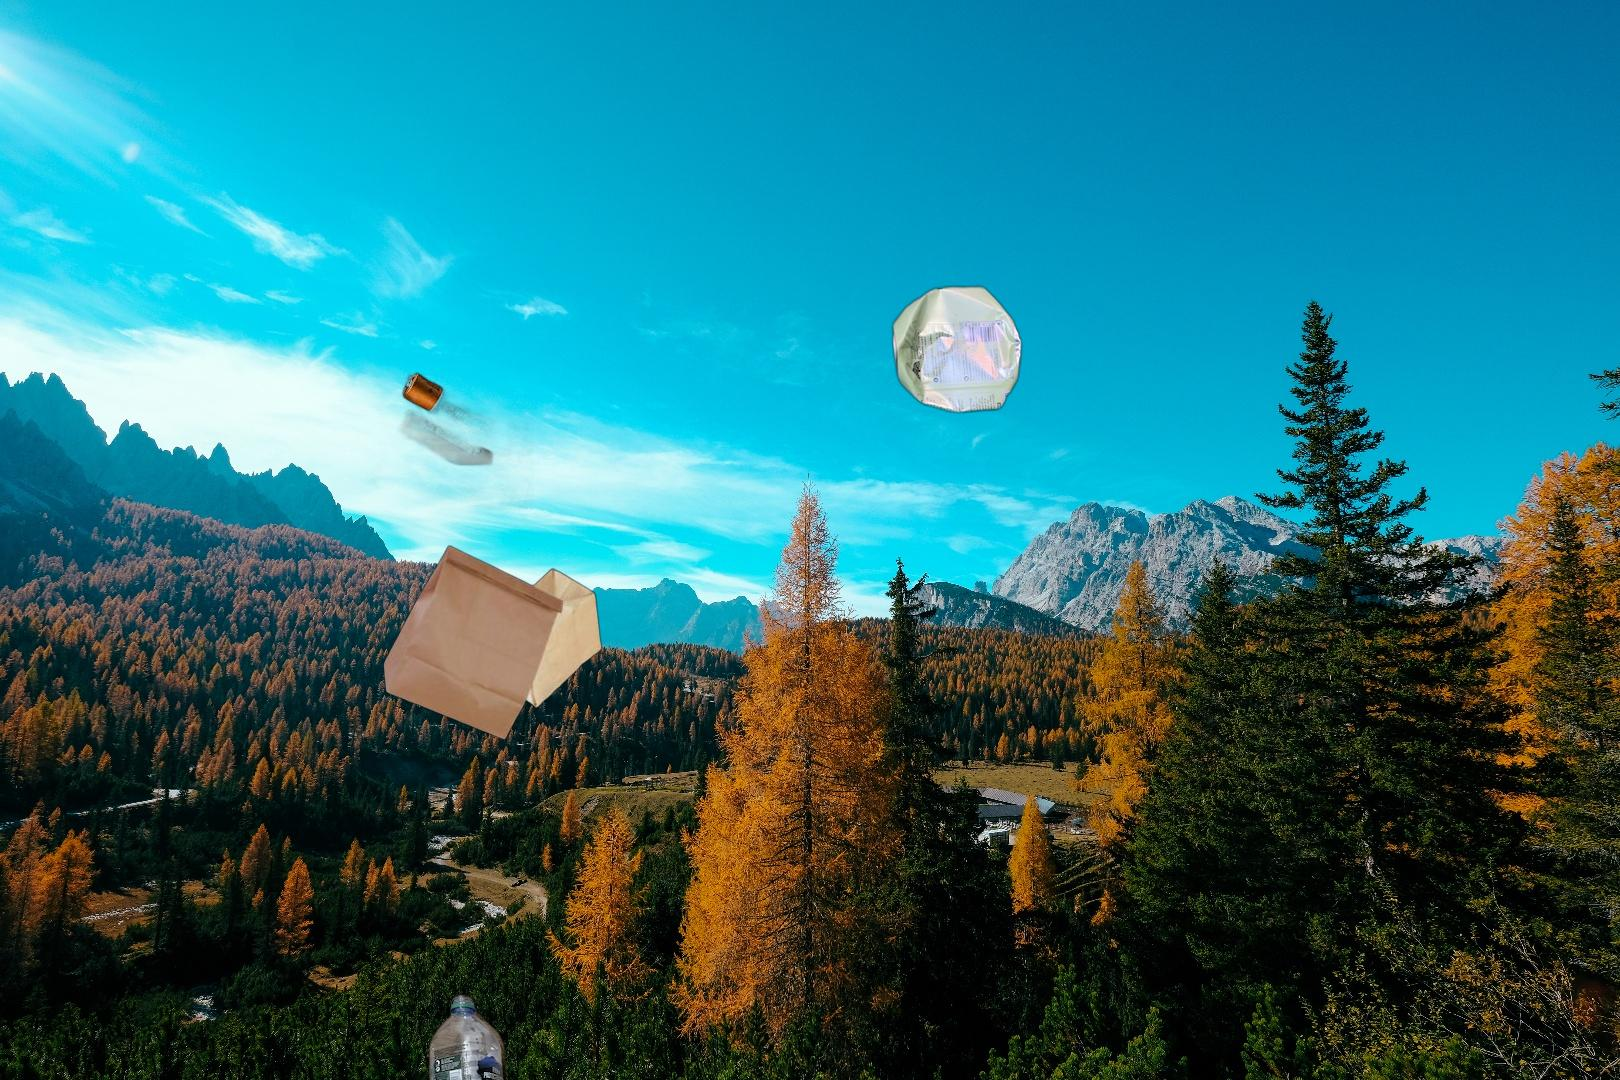battery: (342, 327, 534, 510)
metal-cans: (888, 278, 1325, 824)
paper-bag: (347, 462, 603, 742)
plastic-bottles: (427, 990, 521, 1080)
